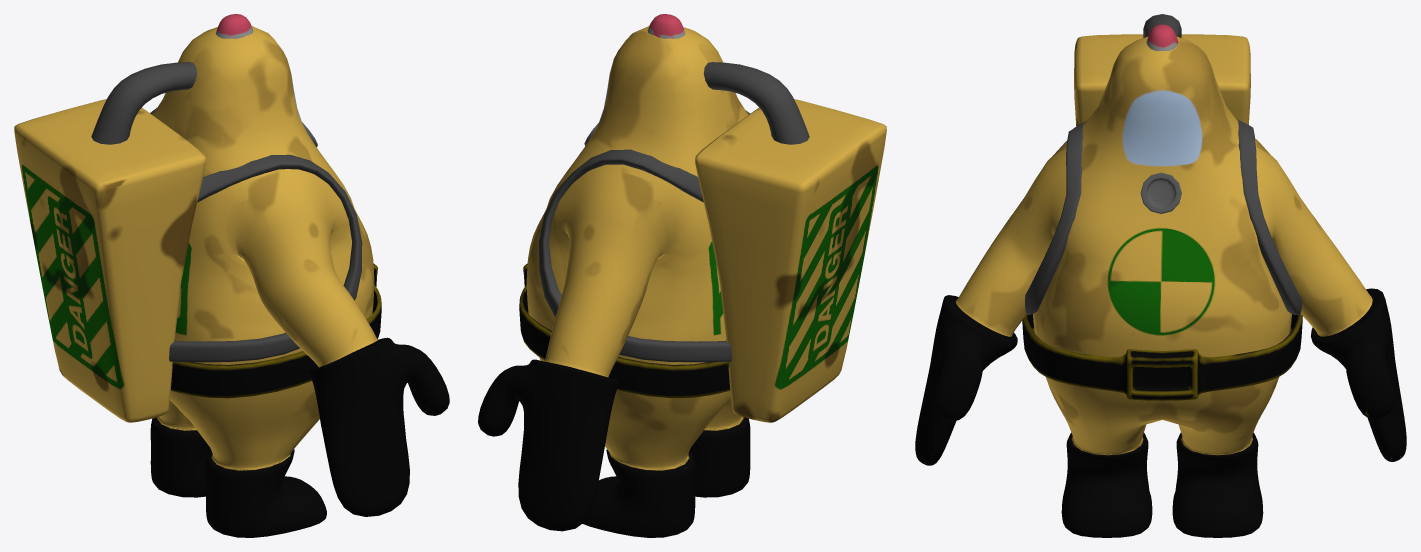
File: Gordo_Model_NoRig.fbx
3 renders of one model, left to right at view 1: azimuth 30°, elevation 25°; view 2: azimuth 150°, elevation 25°; view 3: azimuth 270°, elevation 25°, orthographic.
Visible parts, largest first — view 1: Cube; view 2: Cube; view 3: Cube.
Boxes of the visible parts, x1,y1,x2,y2 form: Cube: (14,14,449,537); Cube: (478,14,886,537); Cube: (915,14,1406,537).
Bounding box in the file's own units: 100 × 150 × 138.
